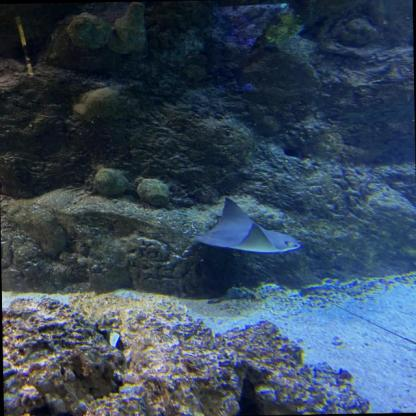stingray: (192, 195, 301, 254)
